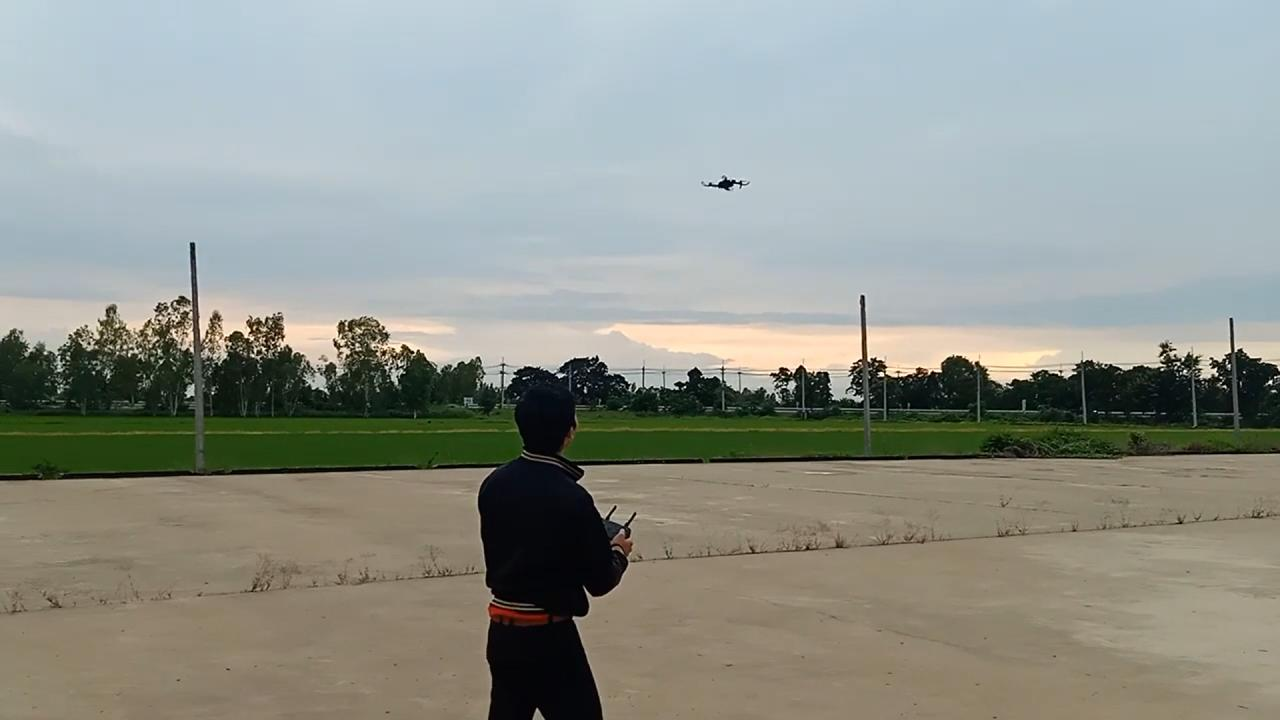Drone: (692, 169, 760, 198)
